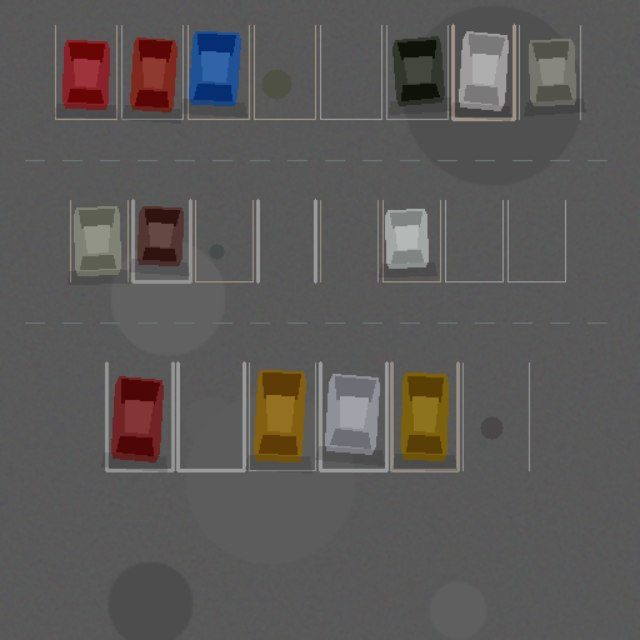space-empty: (462, 363, 529, 470), (178, 363, 244, 470), (254, 25, 315, 119), (320, 25, 381, 119), (320, 200, 378, 281), (195, 200, 252, 281), (258, 200, 315, 281), (445, 200, 502, 281), (508, 200, 565, 281)
space-occupied: (391, 363, 458, 470), (106, 363, 172, 470), (249, 363, 315, 470), (320, 363, 386, 470), (121, 25, 183, 119), (187, 25, 249, 119), (55, 25, 116, 119), (386, 25, 447, 119), (453, 25, 514, 119), (519, 25, 580, 119), (70, 200, 128, 281), (132, 200, 190, 281), (382, 200, 440, 281)
